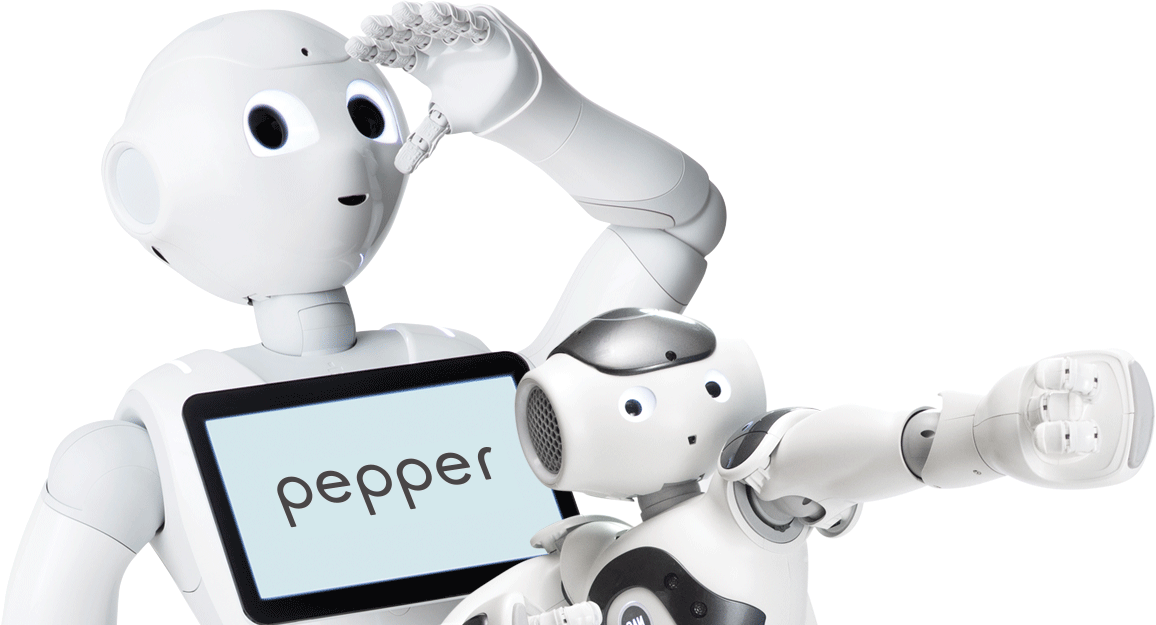nao: (408, 301, 1156, 625)
